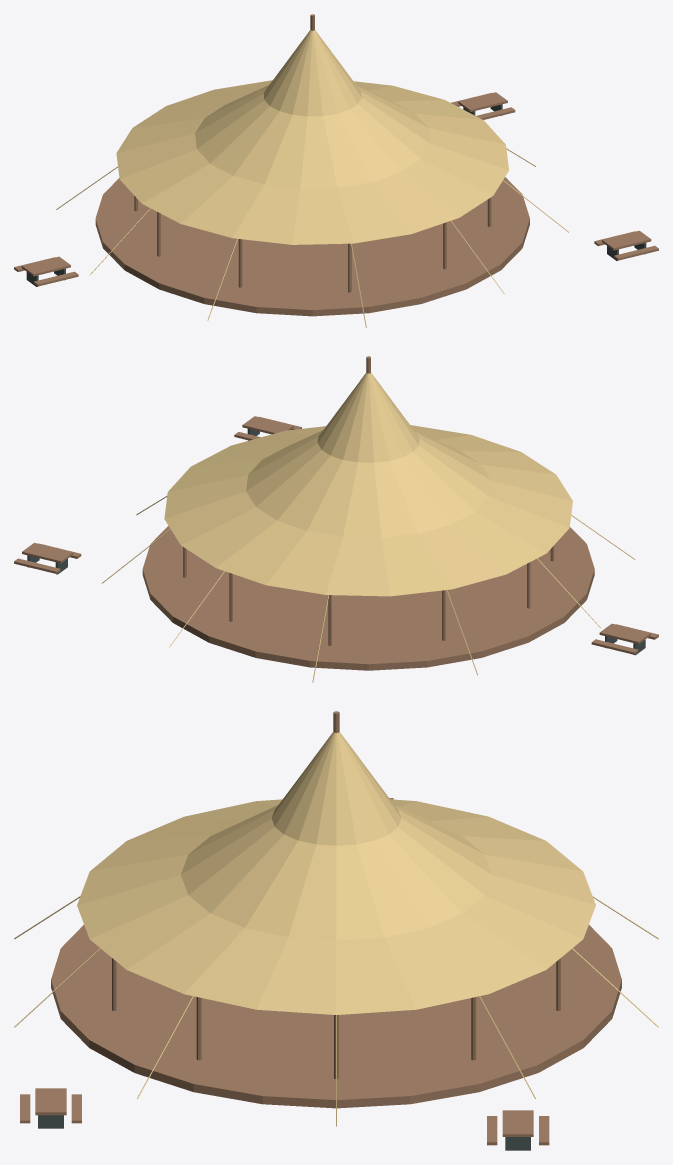
File: sunland_camp.glb
3 views of the same model, one above another, from view 1: azimuth 30°, elevation 25°; view 2: azimuth 150°, elevation 25°; view 3: azimuth 270°, elevation 25° (orthographic). The views are drawn at different scales.
Parts seen in each view (by area): view 1: sunland_camp_canvas, sunland_camp_timber; view 2: sunland_camp_canvas, sunland_camp_timber; view 3: sunland_camp_canvas, sunland_camp_timber, sunland_camp_metal.
Boxes of the visible parts, x1,y1,x2,y2 form: sunland_camp_canvas: [56, 30, 568, 327]; sunland_camp_timber: [14, 14, 658, 316]; sunland_camp_canvas: [102, 373, 635, 682]; sunland_camp_timber: [14, 356, 658, 670]; sunland_camp_canvas: [14, 732, 658, 1126]; sunland_camp_timber: [20, 711, 621, 1145]; sunland_camp_metal: [38, 1115, 530, 1150].
Size of the model in its own units: 14.13 by 5.26 by 11.18.
